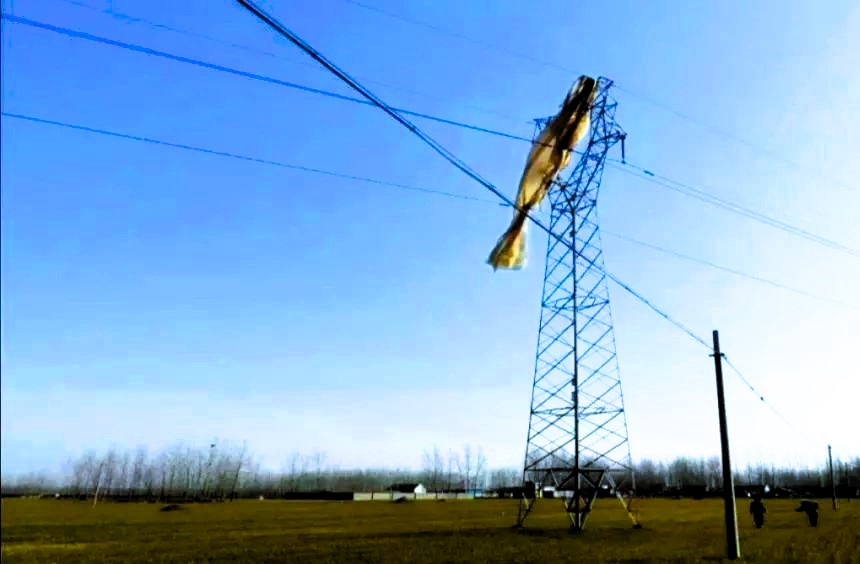wire foreign body: (483, 67, 600, 280)
